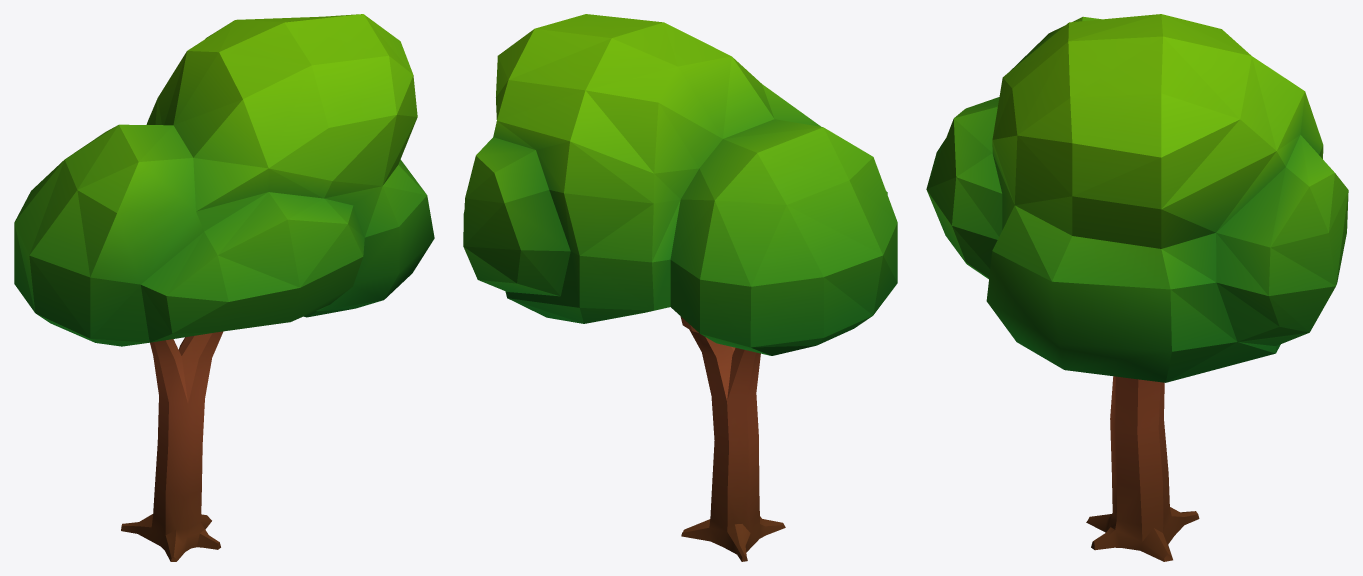
File: arbre02_01.FBX
3 views of the same model, side by side, from view 1: azimuth 30°, elevation 25°; view 2: azimuth 150°, elevation 25°; view 3: azimuth 270°, elevation 25° (orthographic). The views are drawn at different scales.
Visible parts, largest first — view 1: arbre02_01; view 2: arbre02_01; view 3: arbre02_01.
Boxes of the visible parts, x1,y1,x2,y2 form: arbre02_01: (14, 14, 434, 561); arbre02_01: (463, 14, 897, 561); arbre02_01: (926, 14, 1348, 561).
Bounding box in the file's own units: 44.69 × 53.79 × 36.32.
